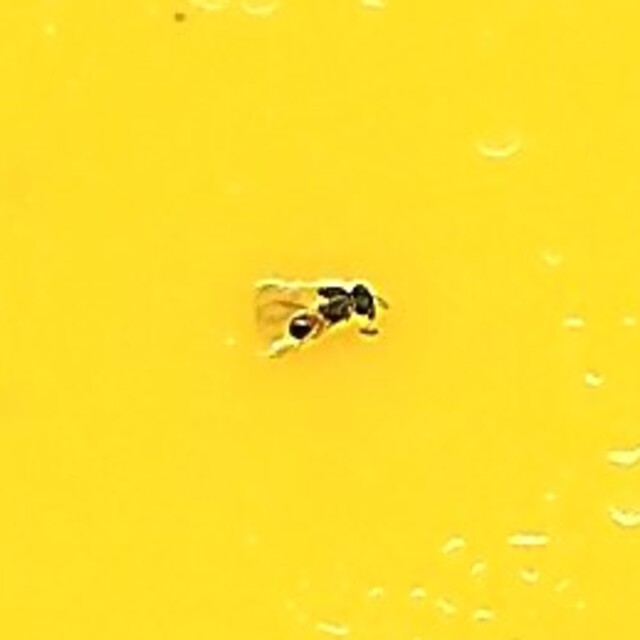Hymenoptera: (247, 274, 393, 366)
